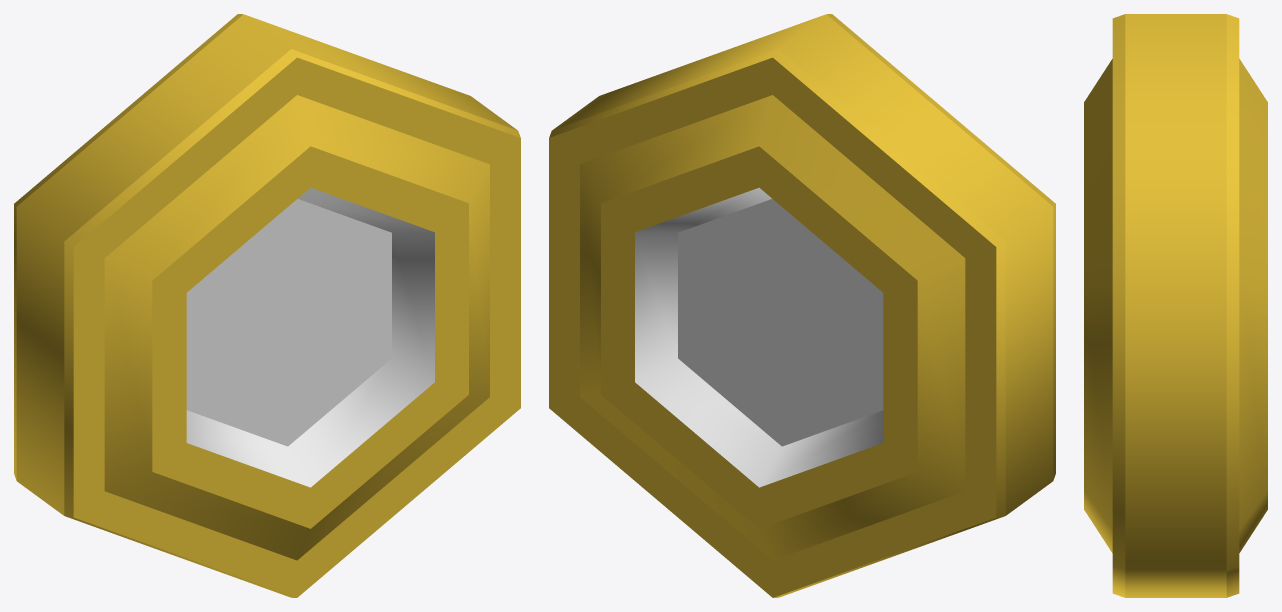
File: Coins.fbx
3 views of the same model, side by side, from view 1: azimuth 30°, elevation 25°; view 2: azimuth 150°, elevation 25°; view 3: azimuth 270°, elevation 25° (orthographic). The views are drawn at different scales.
Visible parts, largest first — view 1: Cylinder.001; view 2: Cylinder.001; view 3: Cylinder.001.
Boxes of the visible parts, x1,y1,x2,y2 form: Cylinder.001: (14,14,520,597); Cylinder.001: (549,14,1055,597); Cylinder.001: (1084,14,1267,597).
Bounding box in the file's own units: 28.55 × 86.6 × 100.
